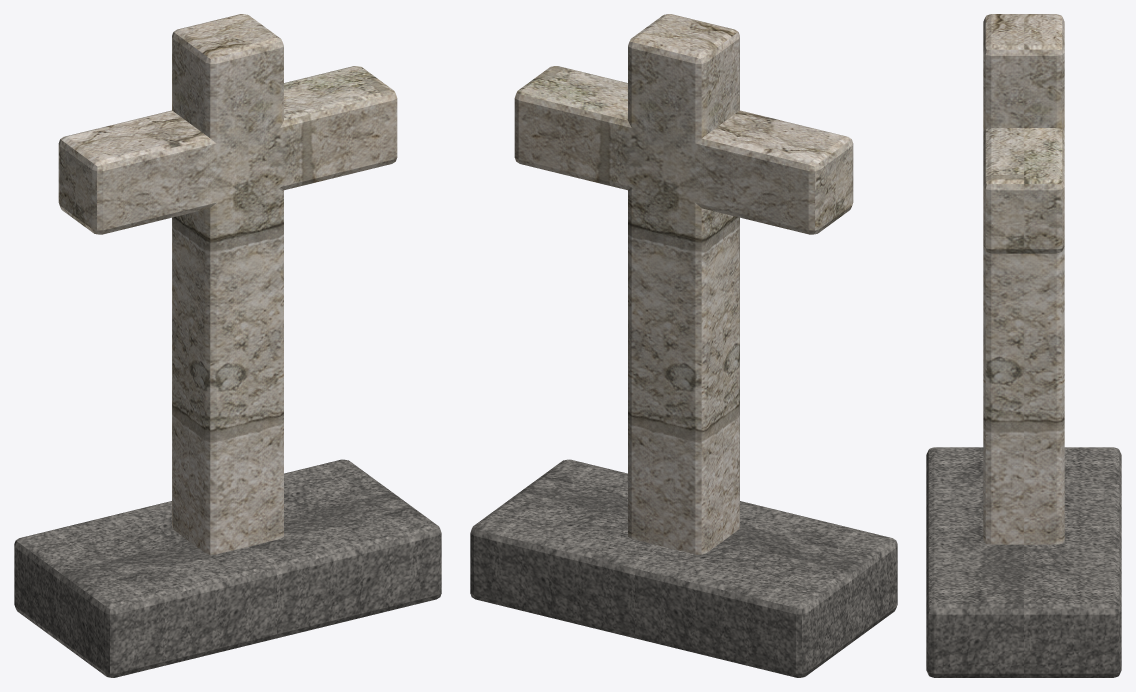
The model's file is headstone-cross.glb.
3 renders of one model, left to right at view 1: azimuth 30°, elevation 25°; view 2: azimuth 150°, elevation 25°; view 3: azimuth 270°, elevation 25°, orthographic.
Visible parts, largest first — view 1: headstone-cross; view 2: headstone-cross; view 3: headstone-cross.
Boxes of the visible parts, box(x1,y1,x2,y2) form: headstone-cross: box(14, 14, 441, 677); headstone-cross: box(470, 14, 897, 677); headstone-cross: box(926, 14, 1121, 677).
Bounding box in the file's own units: 0.95 × 1.54 × 0.48.
2 materials, 2 textured.
